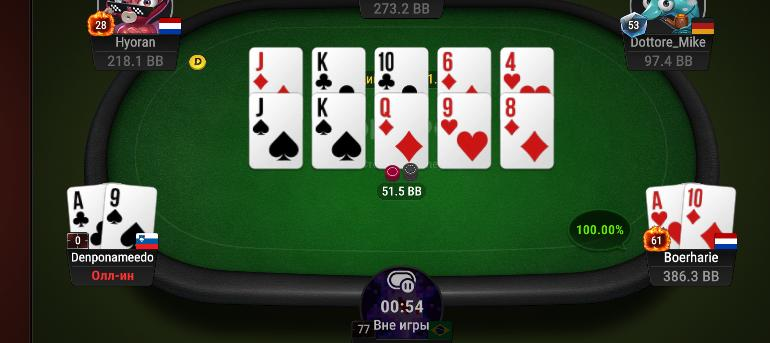10c: (375, 49, 427, 94)
10d: (682, 186, 736, 249)
4h: (502, 48, 553, 95)
6d: (439, 48, 491, 92)
8d: (501, 96, 554, 168)
9h: (438, 93, 492, 168)
9s: (104, 184, 157, 250)
Ac: (68, 186, 103, 249)
Ah: (646, 186, 683, 249)
Jd: (251, 48, 302, 94)
Js: (250, 95, 303, 167)
Kc: (312, 47, 365, 94)
Ks: (313, 95, 366, 168)
Qd: (374, 93, 427, 168)
